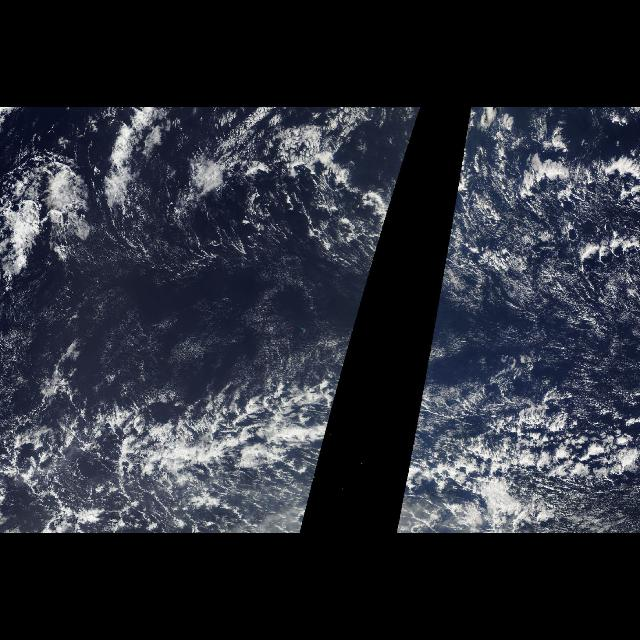Gravel: (48, 386, 340, 528), (464, 108, 638, 304), (398, 386, 628, 528)
Sugar: (38, 264, 326, 376)
